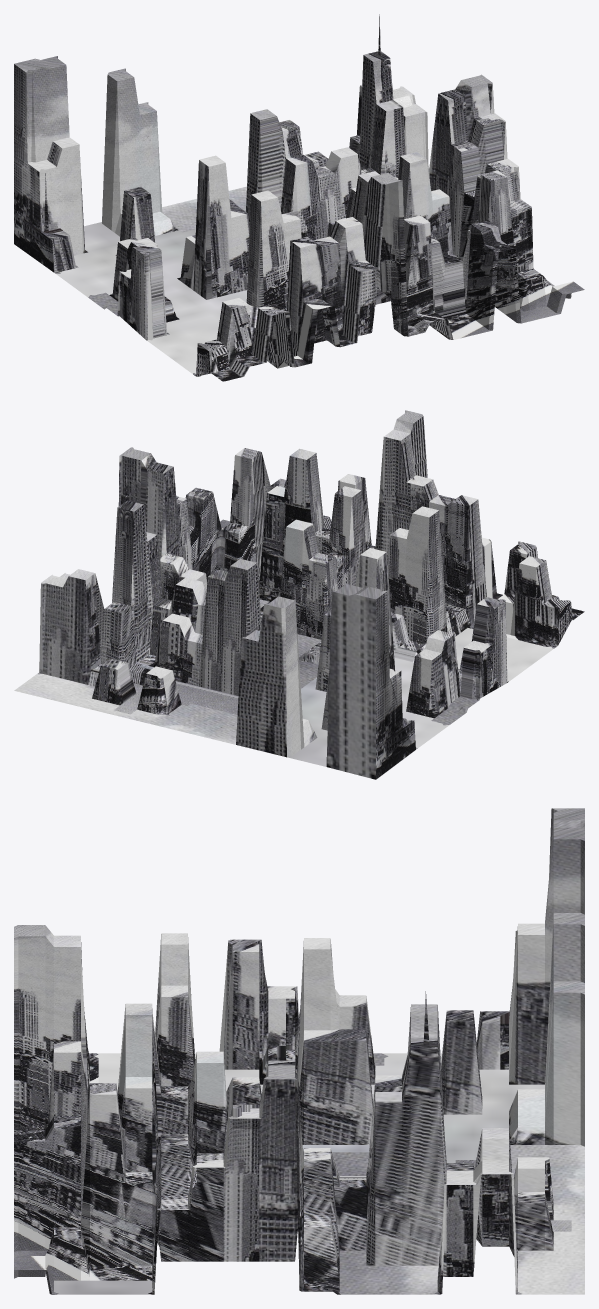
File: BG_Building.fbx
3 renders of one model, top to bottom at view 1: azimuth 30°, elevation 25°; view 2: azimuth 150°, elevation 25°; view 3: azimuth 270°, elevation 25°, orthographic. The views are drawn at different scales.
Parts seen in each view (by area): view 1: BG_Building; view 2: BG_Building; view 3: BG_Building.
Part boxes in pixels (bbox=[...]): BG_Building: bbox=[14, 14, 584, 381]; BG_Building: bbox=[14, 410, 584, 779]; BG_Building: bbox=[14, 808, 584, 1294].
Size of the model in its own units: 12205 by 6364 by 12205.
